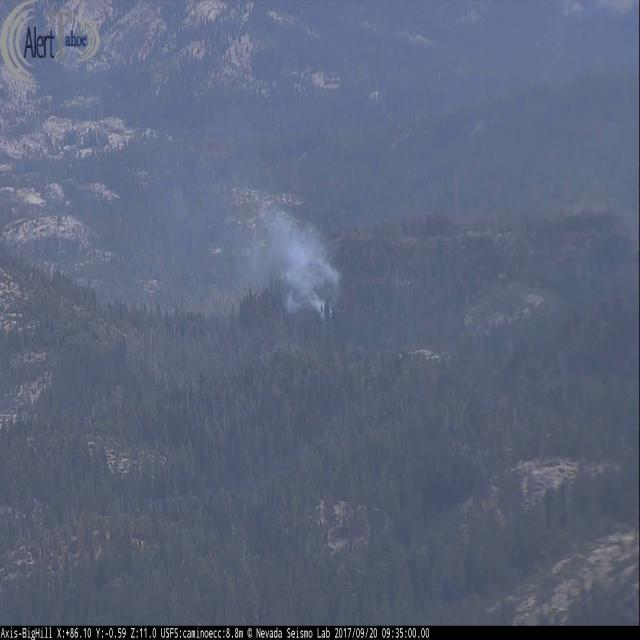smoke: (110, 82, 344, 320)
